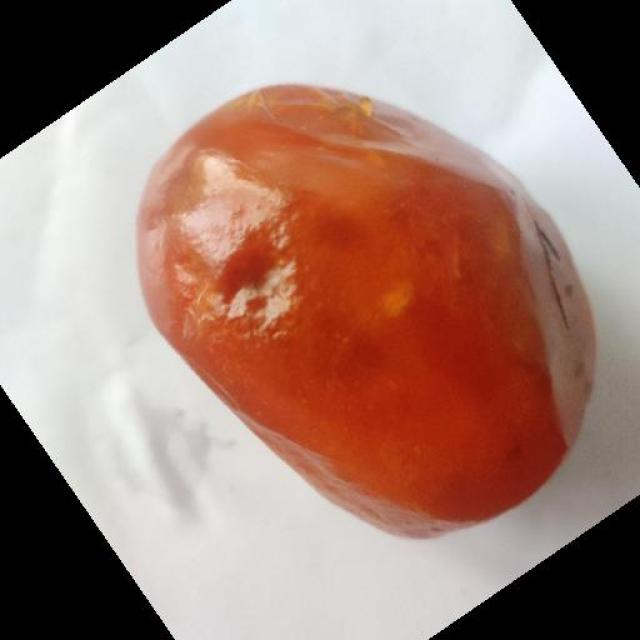Stale_tomato: (132, 86, 584, 529)
